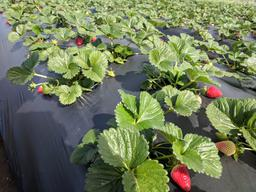green strawberry: (215, 140, 237, 156)
red strawberry: (171, 164, 193, 192), (206, 86, 223, 98), (76, 36, 83, 45)
